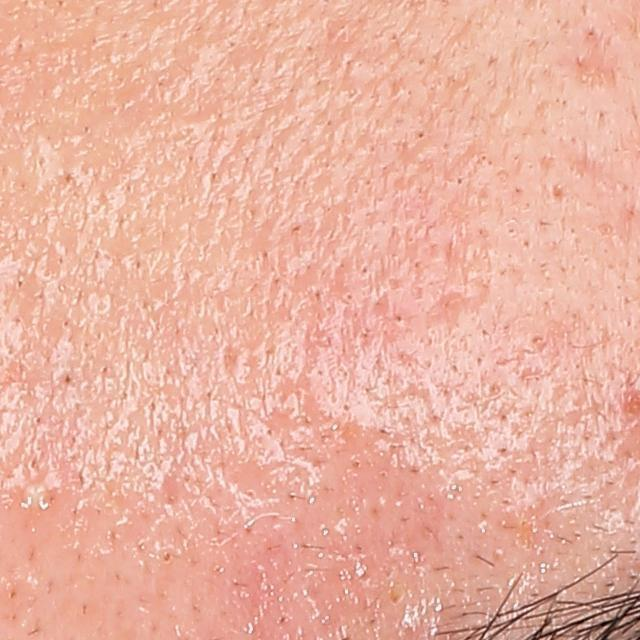atrophic_scar: (421, 286, 487, 331), (561, 47, 612, 90)
comedo: (526, 331, 548, 348)
pustule: (20, 479, 58, 520)
